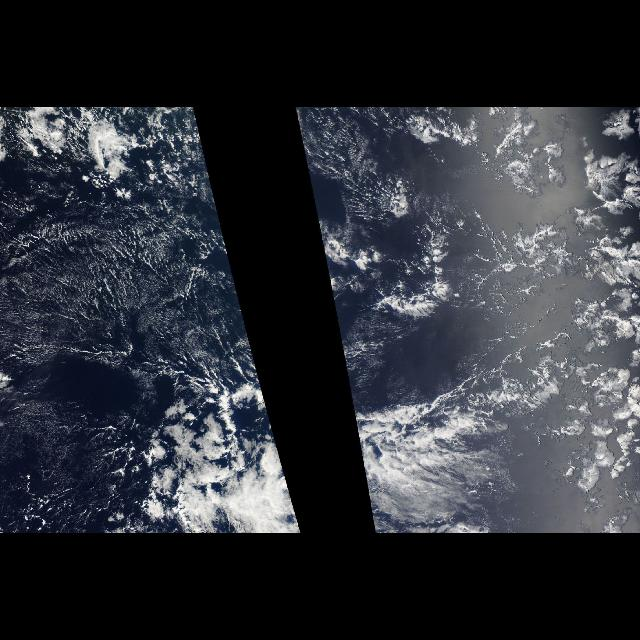Sugar: (0, 214, 242, 370)
